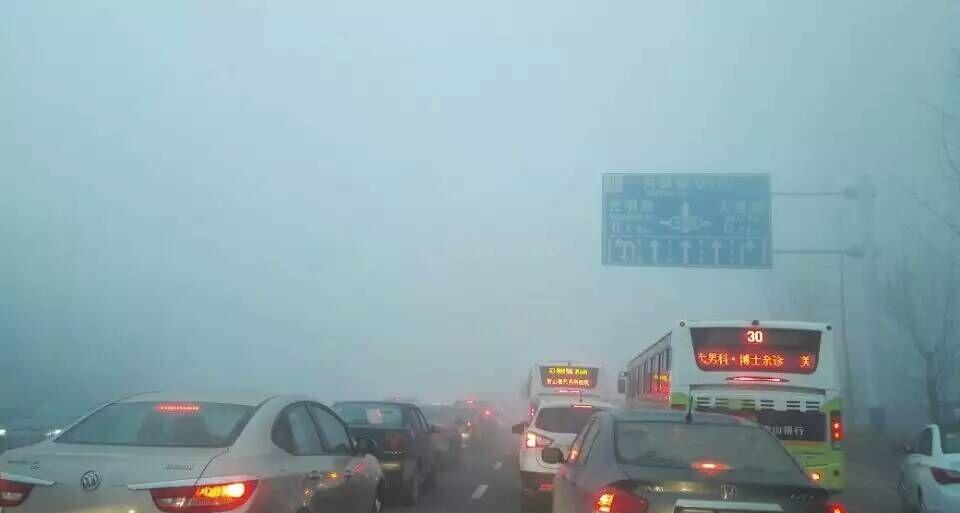bus: (614, 315, 851, 497), (519, 356, 626, 488)
car: (1, 387, 391, 511), (539, 405, 832, 513), (508, 393, 638, 513), (313, 399, 440, 513), (378, 402, 461, 483), (892, 421, 960, 511)
